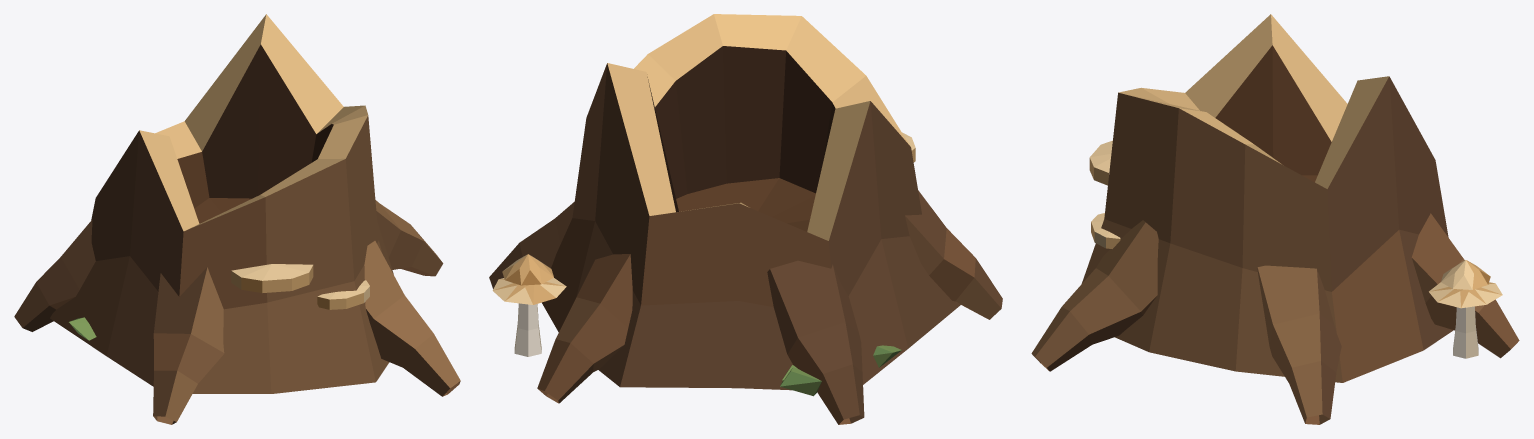
The model's file is stump_old.glb.
3 renders of one model, left to right at view 1: azimuth 30°, elevation 25°; view 2: azimuth 150°, elevation 25°; view 3: azimuth 270°, elevation 25°, orthographic. The views are drawn at different scales.
Parts seen in each view (by area): view 1: stump_old.002; view 2: stump_old.002; view 3: stump_old.002.
Part boxes in pixels (left/top/right/bottom): stump_old.002: left=14, top=14, right=460, bottom=424; stump_old.002: left=489, top=14, right=1002, bottom=424; stump_old.002: left=1031, top=14, right=1519, bottom=424.
Size of the model in its own units: 0.8873 by 0.6 by 0.9327.
